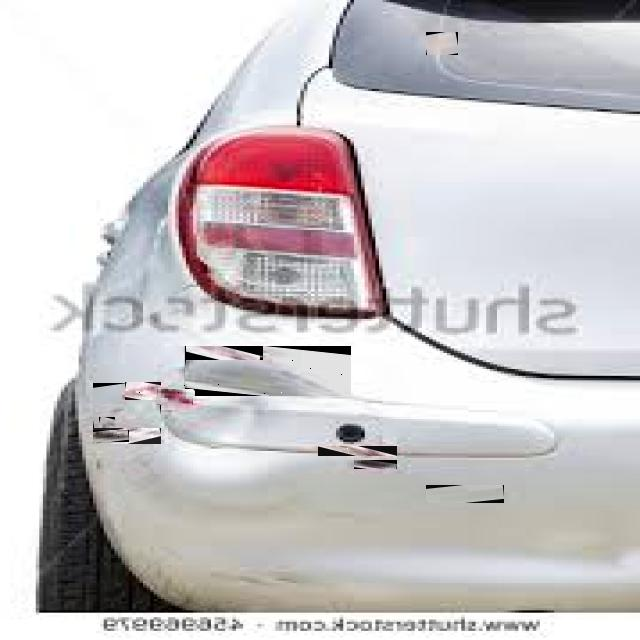Scratch: (193, 346, 336, 395), (95, 383, 160, 443), (426, 488, 503, 502), (93, 428, 159, 443), (190, 346, 252, 359), (426, 33, 456, 54), (157, 389, 192, 404), (327, 446, 382, 455), (125, 385, 160, 398), (354, 460, 395, 468), (357, 447, 395, 455), (93, 432, 127, 440), (114, 426, 139, 434), (99, 419, 114, 429), (143, 437, 159, 443)
